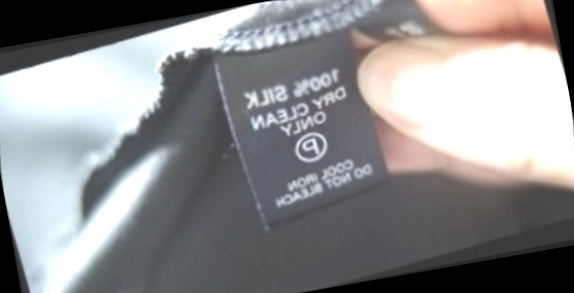dry_clean_any_solvent_except_trichloroethylene: (279, 117, 341, 177)
